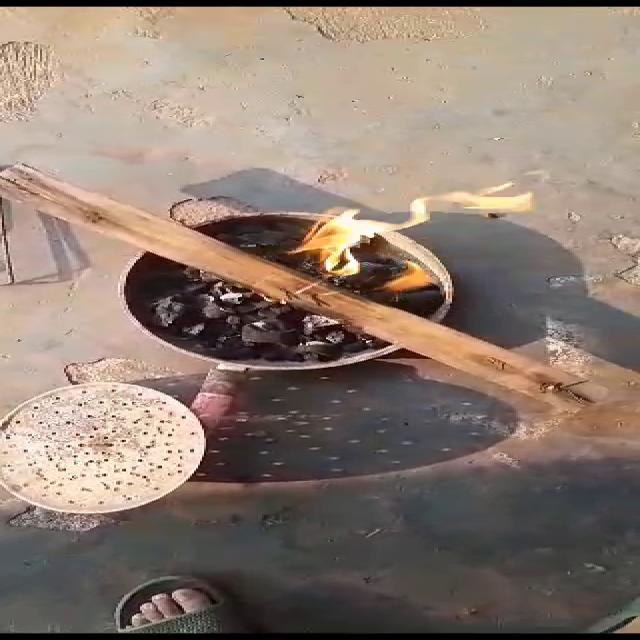Fire: (293, 166, 543, 297)
